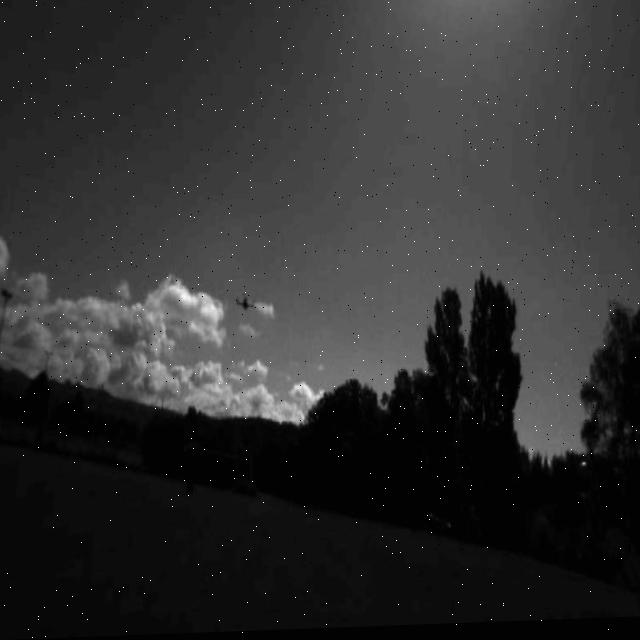drone: (222, 273, 268, 339)
